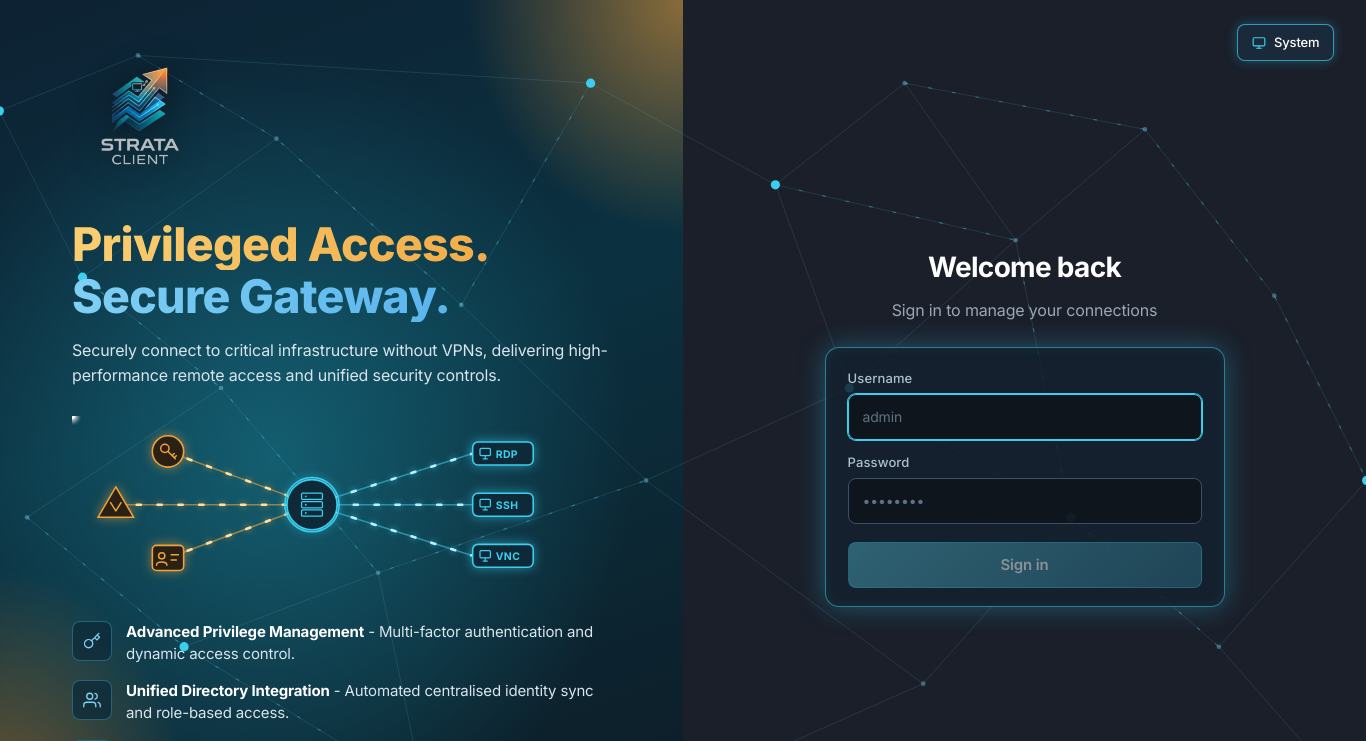
Scenario: Login page › shows fallback message when login rejects with non-Error
The width and height of the screenshot is (1366, 741).
Type "testuser" into the field with placeholder "admin" at (1024, 417), box [848,394,1202,440]
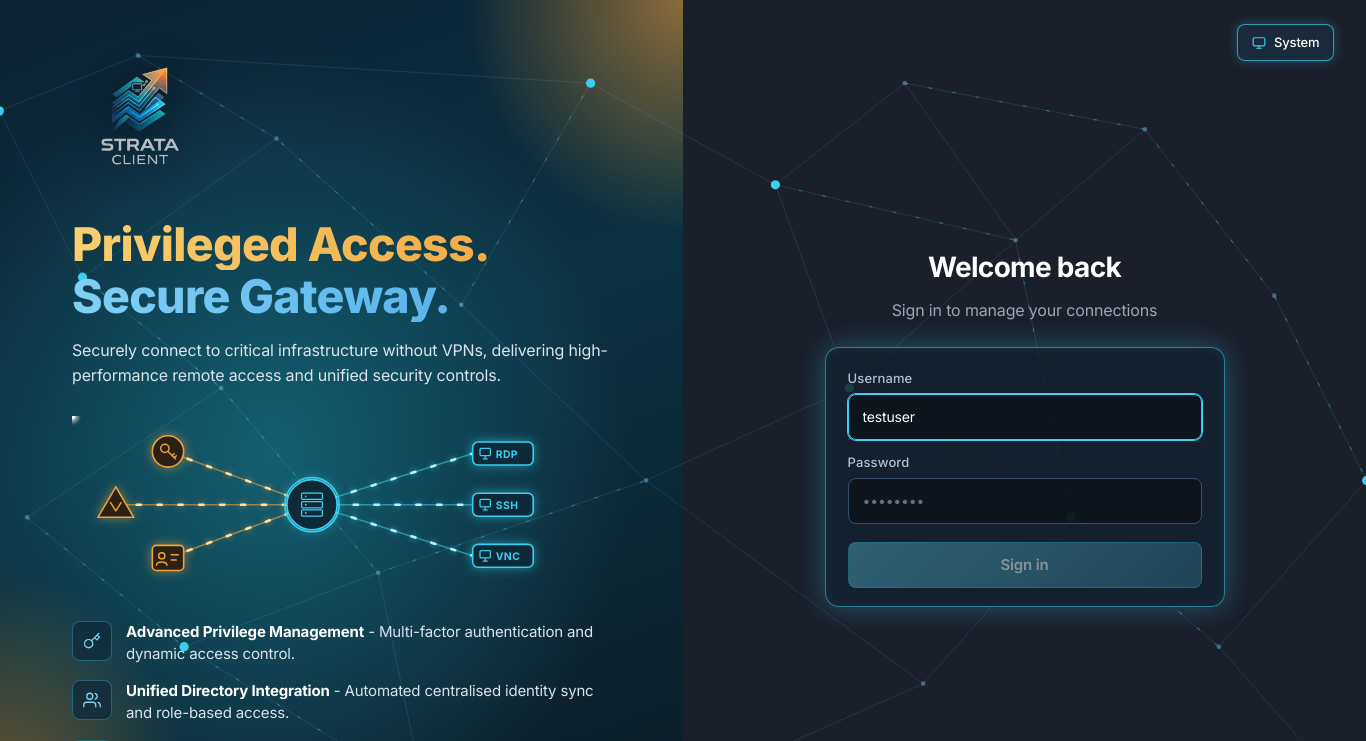
Type "wrongpass" into the password field with placeholder "••••••••" at (1024, 501), box [848,478,1202,524]
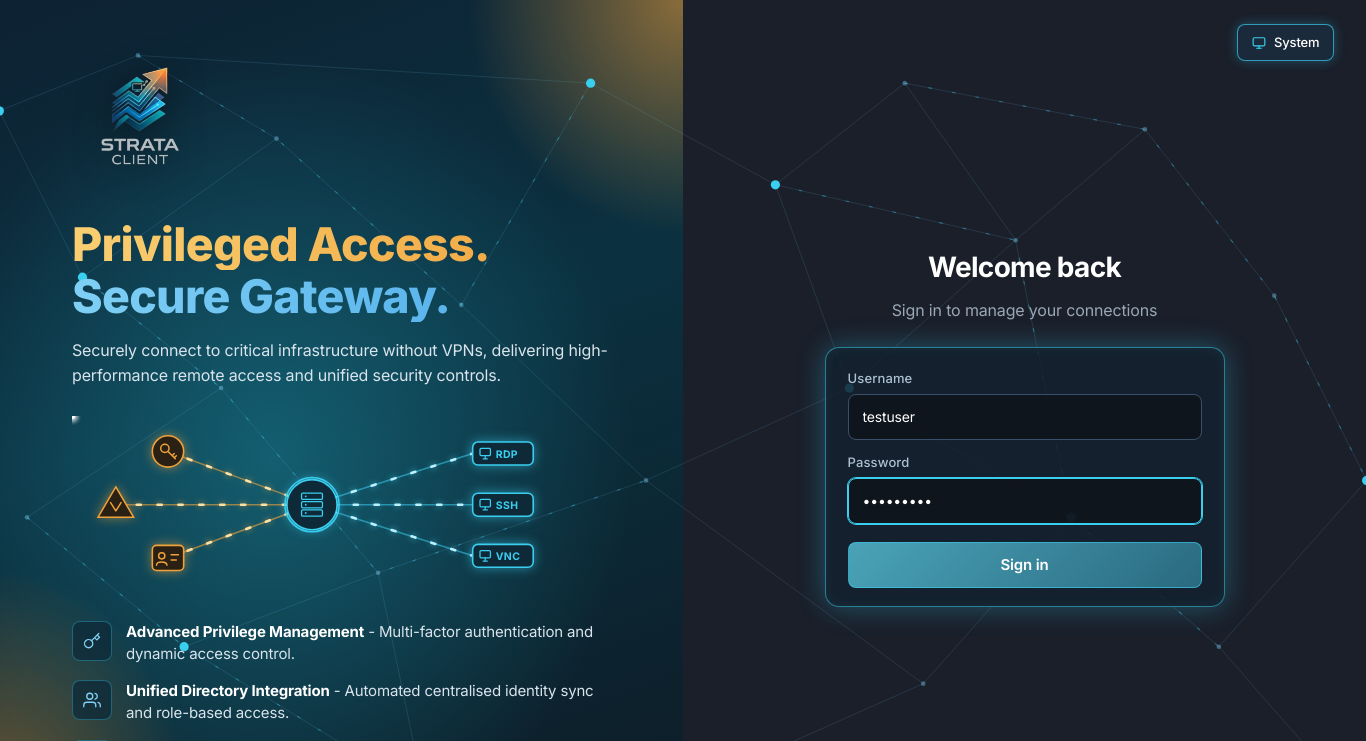
Click the button "Sign in" at (1024, 565), box [848,542,1202,588]
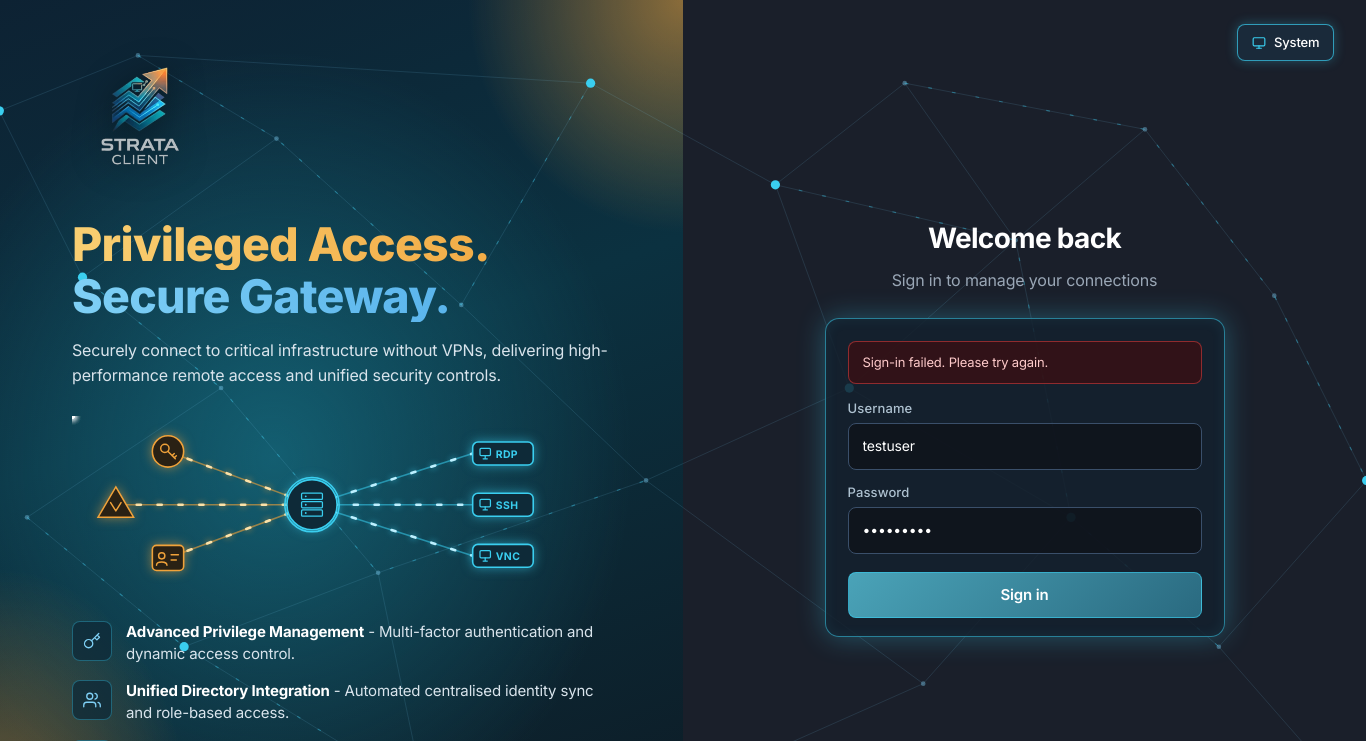
Check: the text "Sign-in failed. Please try again." is shown, box [848,341,1202,384]
